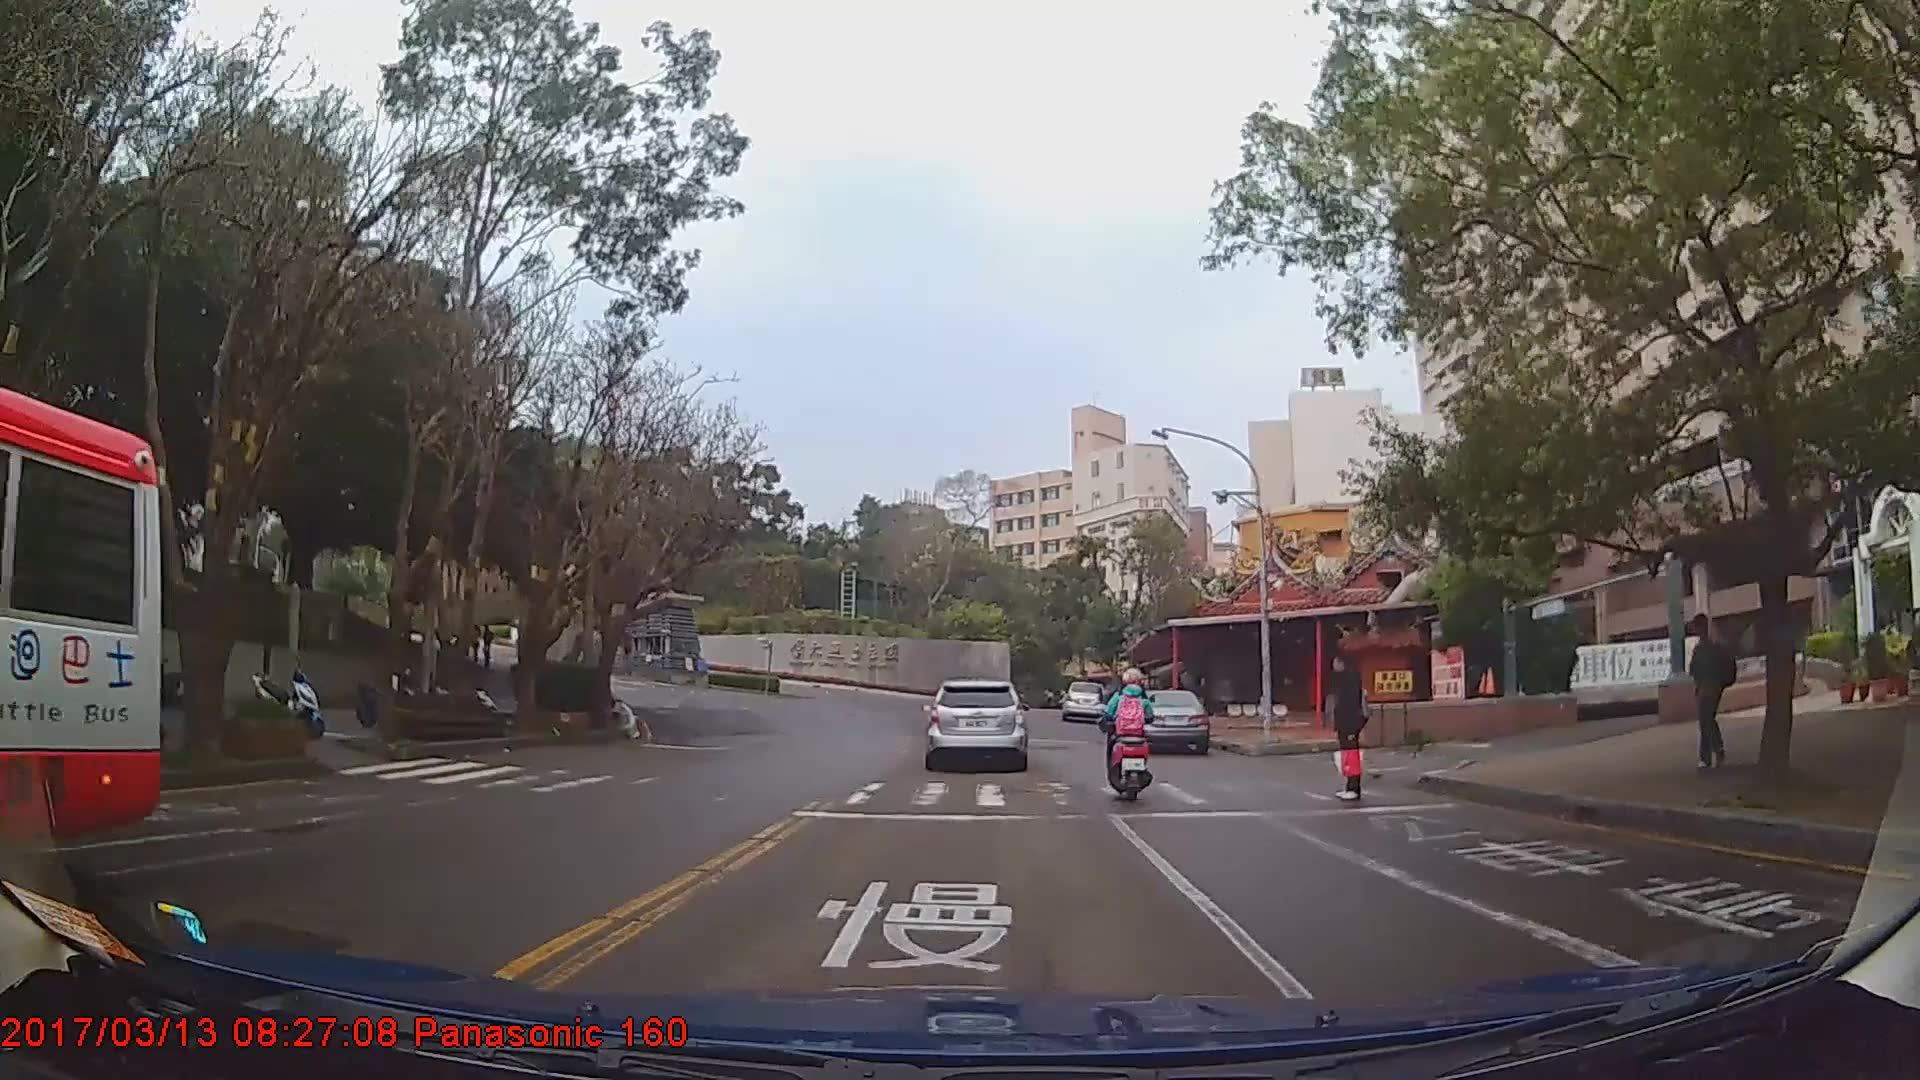pedestrian: (1684, 608, 1739, 765), (1326, 643, 1377, 803)
rider: (1100, 668, 1161, 804)
vehicle: (0, 383, 161, 900), (928, 678, 1028, 773), (1128, 686, 1211, 754), (1062, 678, 1108, 721)
